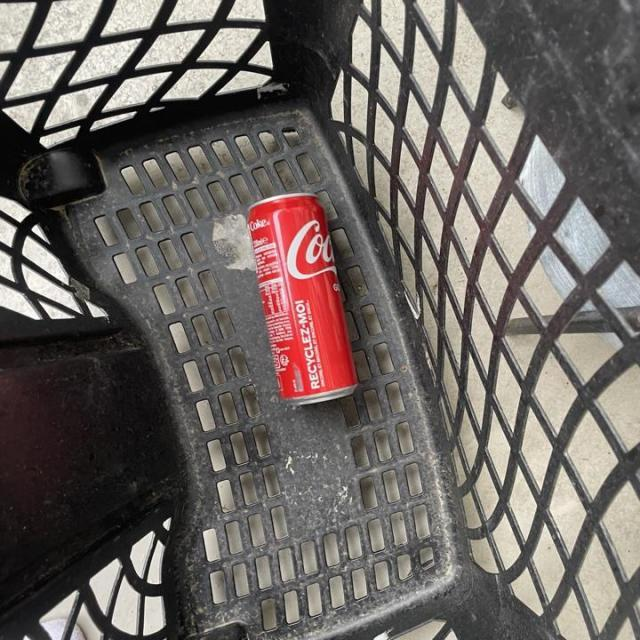recyclable: (238, 185, 381, 414)
